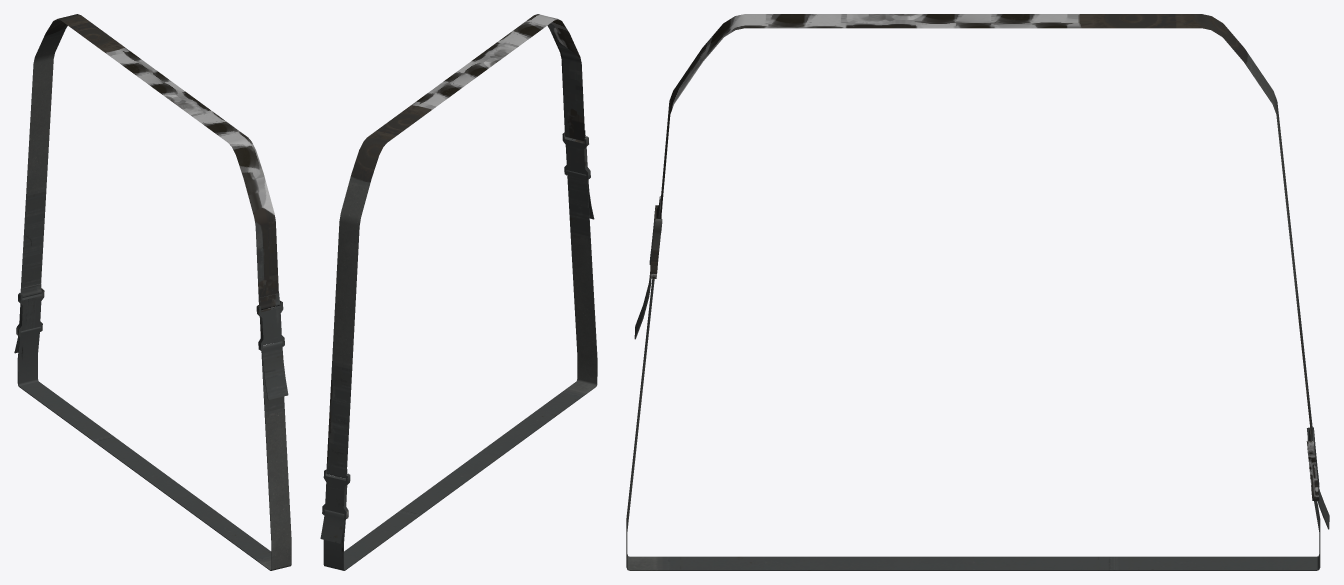
Rendered from SM_Adjustable_Tv_Cart_01c.fbx.
The picture shows the model from 3 angles, left to right: view 1: azimuth 30°, elevation 25°; view 2: azimuth 150°, elevation 25°; view 3: azimuth 270°, elevation 25°; orthographic projection. The views are drawn at different scales.
Visible parts, largest first — view 1: SM_Adjustable_Tv_Cart_01c_LOD0; view 2: SM_Adjustable_Tv_Cart_01c_LOD0; view 3: SM_Adjustable_Tv_Cart_01c_LOD0.
Boxes of the visible parts, <box> form: SM_Adjustable_Tv_Cart_01c_LOD0: <box>14,14,291,570</box>; SM_Adjustable_Tv_Cart_01c_LOD0: <box>320,14,597,570</box>; SM_Adjustable_Tv_Cart_01c_LOD0: <box>626,14,1329,570</box>.
Size of the model in its own units: 3.93 by 73.56 by 62.73.
Materials: 1 (1 with a texture image).
